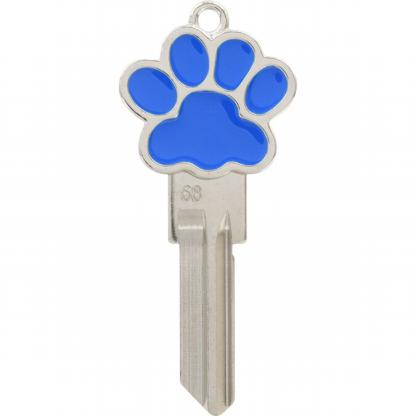key: (118, 4, 300, 413)
